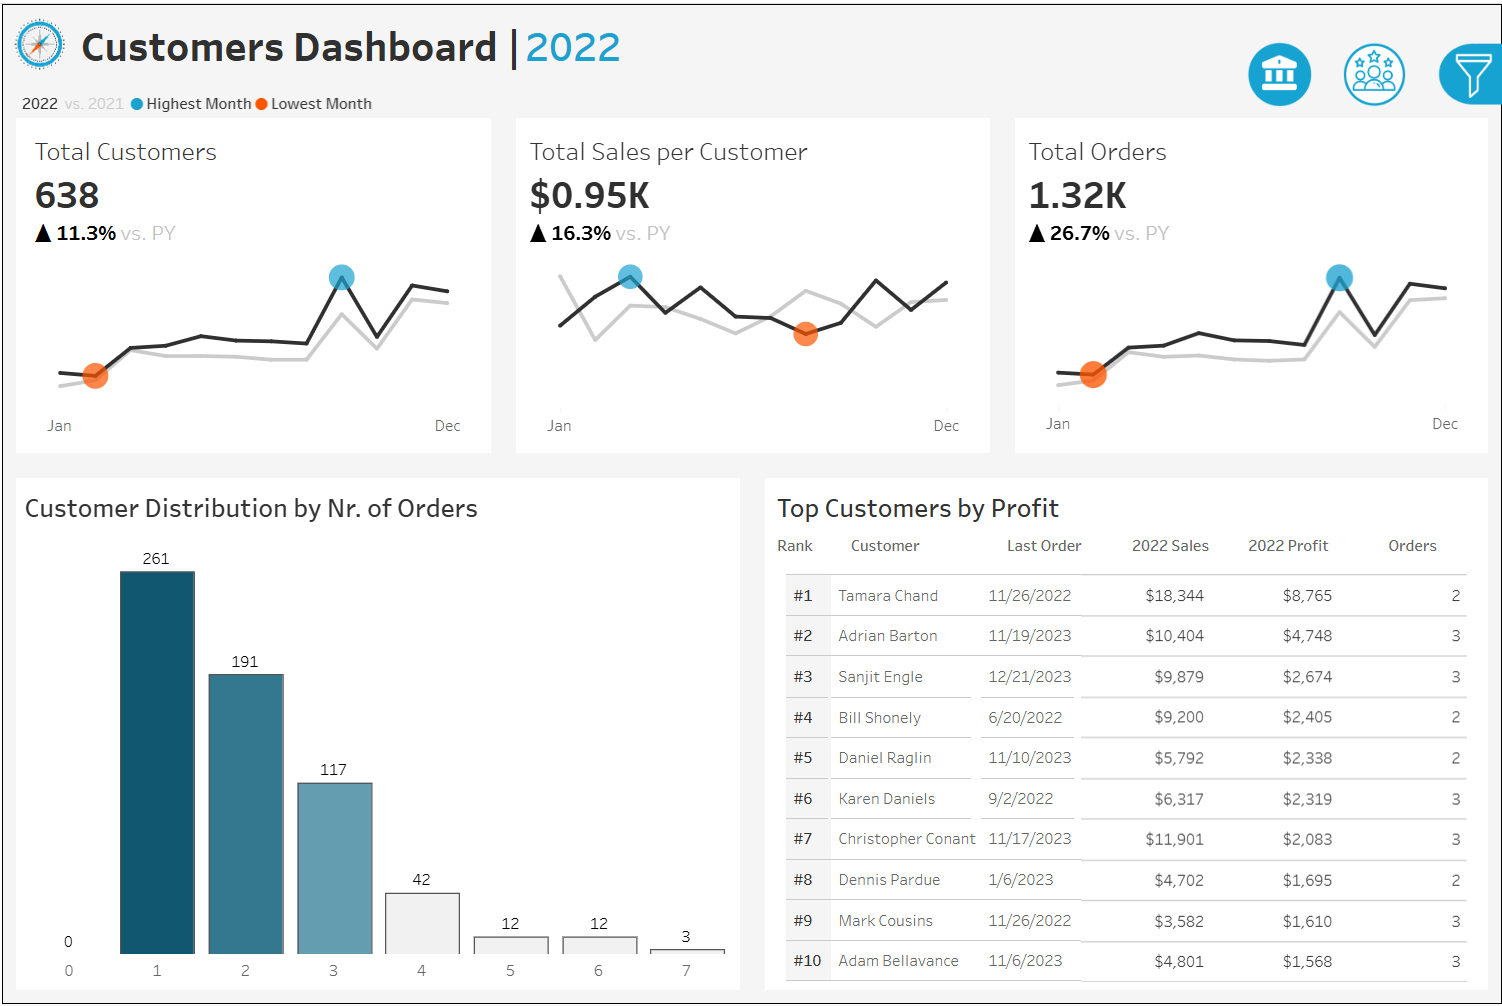

The dashboard page shown, as its layout file describes it:
{"tool":"tableau","page":{"name":"Customer Dashboard","canvas":[1200,800],"ordinal":0},"visuals":[{"type":"image","param":"D:/PARA/01 Projects/Create portfolio/Tableau/Sales-Dashboard-Materials/Sales Das","box":[1,1,58,62]},{"type":"text","box":[59,1,1140,62]},{"type":"blank","box":[993,9,199,90]},{"type":"dashboard-object","box":[984,26,76,60]},{"type":"dashboard-object","box":[1060,26,76,60]},{"type":"worksheet","title":"Legend KPI","mark":"Automatic","box":[1,63,1198,28]},{"type":"worksheet","title":"KPI Customers","mark":"Automatic","rows":["Min/Max Profit (copy)_1233423385068965897"],"cols":["Order Date"],"box":[1,91,400,278]},{"type":"worksheet","title":"KPI Sales per Costumer","mark":"Line","rows":["Min/Max Sales (copy)_1233423385101672463"],"cols":["Order Date"],"box":[401,91,399,278]},{"type":"worksheet","title":"KPI Orders","mark":"Line","rows":["Min/Max Customers (copy)_1233423385112195096"],"cols":["Order Date"],"box":[800,91,399,278]},{"type":"text","box":[993,99,199,37]},{"type":"parameter","param":"[Parameters].[Parameter 1]","box":[993,136,199,56]},{"type":"blank","box":[993,192,199,42]},{"type":"text","box":[993,234,199,33]},{"type":"filter","title":"KPI Customers","param":"[federated.06loeet1mj79jl1d7w04m1d4yi2a].[none:Category:nk]","box":[993,267,199,56]},{"type":"filter","title":"KPI Customers","param":"[federated.06loeet1mj79jl1d7w04m1d4yi2a].[none:Sub-Category:nk]","box":[993,323,199,56]},{"type":"text","box":[1,369,599,51]},{"type":"text","box":[610,379,579,45]},{"type":"text","box":[993,379,199,33]},{"type":"filter","title":"KPI Customers","param":"[federated.06loeet1mj79jl1d7w04m1d4yi2a].[none:Region:nk]","box":[993,412,199,56]},{"type":"worksheet","title":"Customer Distribution","mark":"Bar","rows":["Calculation_1233423385060352004"],"cols":["Calculation_1233423385122291739"],"box":[1,420,599,379]},{"type":"text","box":[610,424,65,32]},{"type":"text","box":[675,424,125,32]},{"type":"text","box":[800,424,100,32]},{"type":"text","box":[900,424,92.5,32]},{"type":"text","box":[992.5,424,112,32]},{"type":"text","box":[1104.5,424,84.5,32]},{"type":"worksheet","title":"Top Customers","mark":"Automatic","rows":["Calculation_1233423385136492577","Customer Name","Order Date"],"box":[610,456,579,333]},{"type":"filter","title":"KPI Customers","param":"[federated.06loeet1mj79jl1d7w04m1d4yi2a].[none:State:nk]","box":[993,468,199,56]},{"type":"filter","title":"KPI Customers","param":"[federated.06loeet1mj79jl1d7w04m1d4yi2a].[none:City:nk]","box":[993,524,199,56]}]}

Visuals, with their boxes in screenshot pixels (x1, y1, x2, y2), scaled from the page's 1200x800 canvas onto the 1502x1006 screenshot:
image: bbox(1, 1, 74, 79)
text: bbox(74, 1, 1501, 79)
blank: bbox(1243, 11, 1492, 124)
dashboard-object: bbox(1232, 33, 1327, 108)
dashboard-object: bbox(1327, 33, 1422, 108)
"Legend KPI" worksheet: bbox(1, 79, 1501, 114)
"KPI Customers" worksheet: bbox(1, 114, 502, 464)
"KPI Sales per Costumer" worksheet (Line marks): bbox(502, 114, 1001, 464)
"KPI Orders" worksheet (Line marks): bbox(1001, 114, 1501, 464)
text: bbox(1243, 124, 1492, 171)
parameter: bbox(1243, 171, 1492, 241)
blank: bbox(1243, 241, 1492, 294)
text: bbox(1243, 294, 1492, 336)
"KPI Customers" filter: bbox(1243, 336, 1492, 406)
"KPI Customers" filter: bbox(1243, 406, 1492, 477)
text: bbox(1, 464, 751, 528)
text: bbox(764, 477, 1488, 533)
text: bbox(1243, 477, 1492, 518)
"KPI Customers" filter: bbox(1243, 518, 1492, 589)
"Customer Distribution" worksheet (Bar marks): bbox(1, 528, 751, 1005)
text: bbox(764, 533, 845, 573)
text: bbox(845, 533, 1001, 573)
text: bbox(1001, 533, 1126, 573)
text: bbox(1126, 533, 1242, 573)
text: bbox(1242, 533, 1382, 573)
text: bbox(1382, 533, 1488, 573)
"Top Customers" worksheet: bbox(764, 573, 1488, 992)
"KPI Customers" filter: bbox(1243, 589, 1492, 659)
"KPI Customers" filter: bbox(1243, 659, 1492, 729)
